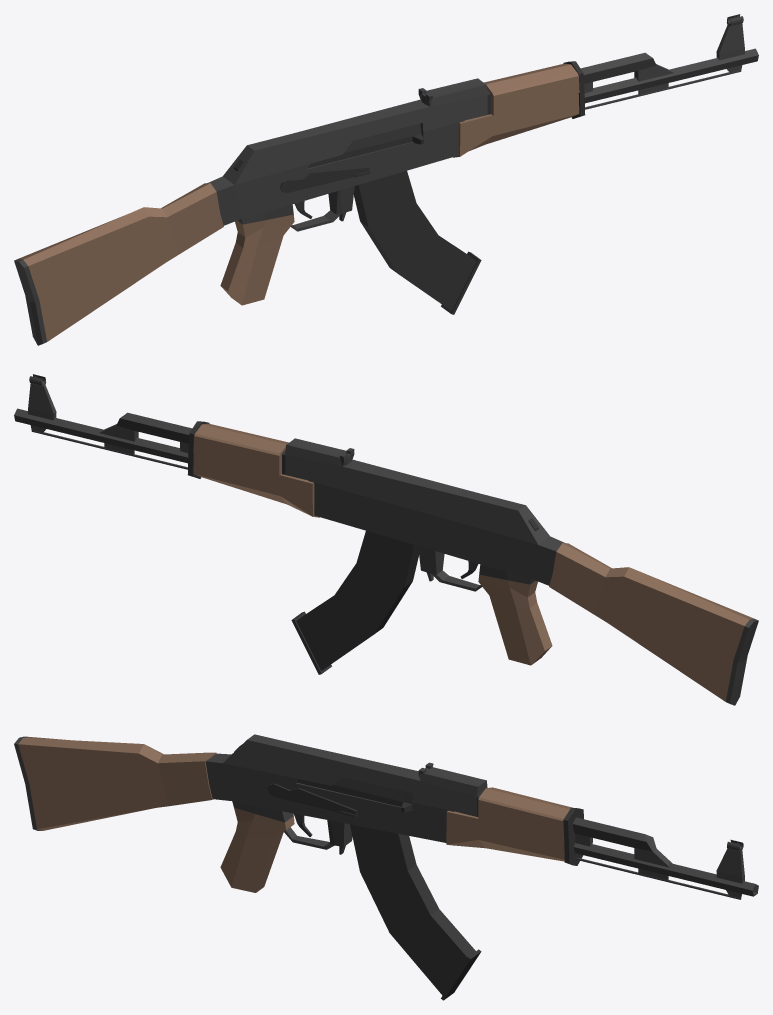
The picture shows the model from 3 angles, top to bottom: view 1: azimuth 30°, elevation 25°; view 2: azimuth 150°, elevation 25°; view 3: azimuth 330°, elevation 25°; orthographic projection.
Parts seen in each view (by area): view 1: Base, Stock, Front, Mag, Bolt, Safety; view 2: Base, Stock, Front, Mag; view 3: Base, Stock, Front, Mag, Bolt, Safety.
Part boxes in pixels (bbox=[...]): Base: bbox=[208, 78, 490, 305]; Stock: bbox=[14, 183, 223, 345]; Front: bbox=[453, 14, 758, 157]; Mag: bbox=[354, 171, 481, 314]; Bolt: bbox=[308, 123, 423, 168]; Safety: bbox=[279, 166, 370, 192]; Base: bbox=[282, 438, 564, 665]; Stock: bbox=[549, 543, 758, 705]; Front: bbox=[14, 374, 319, 517]; Mag: bbox=[291, 531, 418, 674]; Base: bbox=[205, 734, 487, 892]; Stock: bbox=[14, 736, 216, 830]; Front: bbox=[446, 787, 758, 899]; Mag: bbox=[350, 824, 481, 1000]; Bolt: bbox=[297, 777, 412, 812]; Safety: bbox=[267, 783, 357, 817].
Bounding box in the file's own units: 1.82 × 0.5308 × 0.0756.
